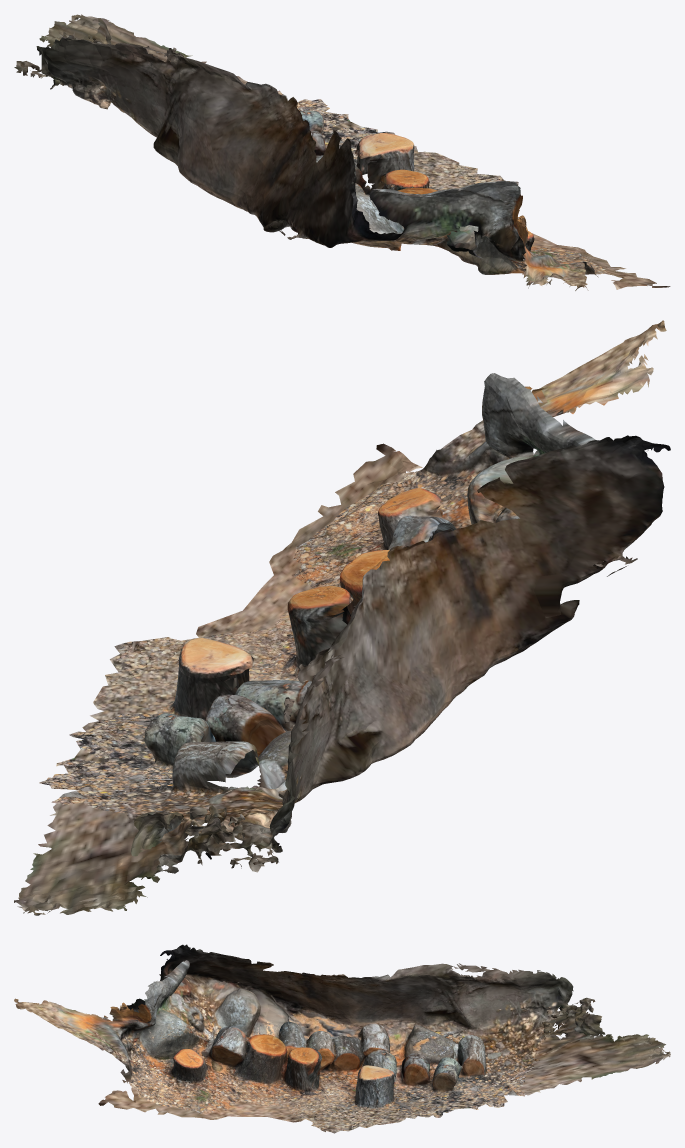
Rendered from metascan_20230505-1146.obj.
3 views of the same model, one above another, from view 1: azimuth 30°, elevation 25°; view 2: azimuth 150°, elevation 25°; view 3: azimuth 270°, elevation 25° (orthographic). The views are drawn at different scales.
Visible parts, largest first — view 1: mesh_0; view 2: mesh_0; view 3: mesh_0.
Part boxes in pixels (x1,y1,x2,y2): mesh_0: (14,14,670,290); mesh_0: (14,320,670,915); mesh_0: (14,944,670,1133).
Bounding box in the file's own units: 3.1 × 1.41 × 8.46.
1 material, 1 textured.
